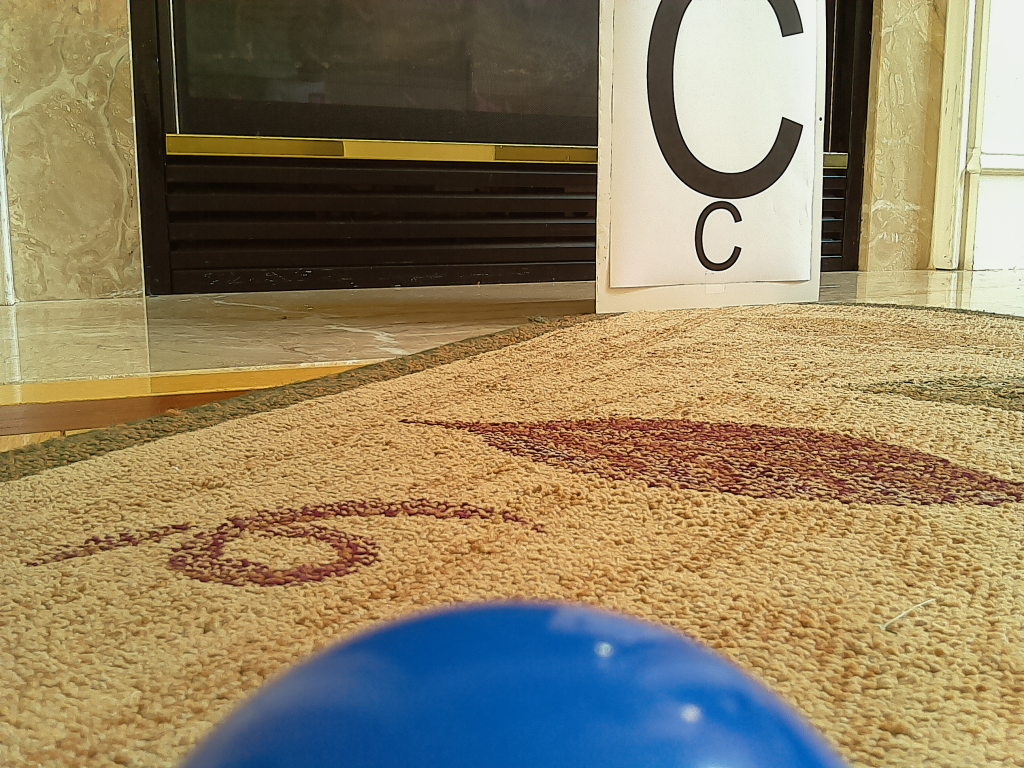letter: (646, 1, 802, 198)
